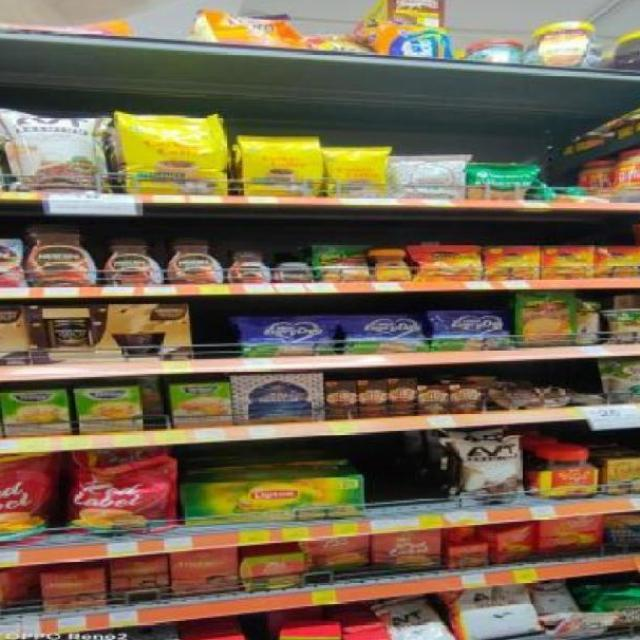Coffee: (23, 225, 97, 284), (103, 237, 164, 284), (163, 237, 225, 282), (414, 245, 477, 280), (370, 250, 412, 281), (230, 251, 270, 283), (0, 240, 26, 287), (276, 262, 310, 282)
